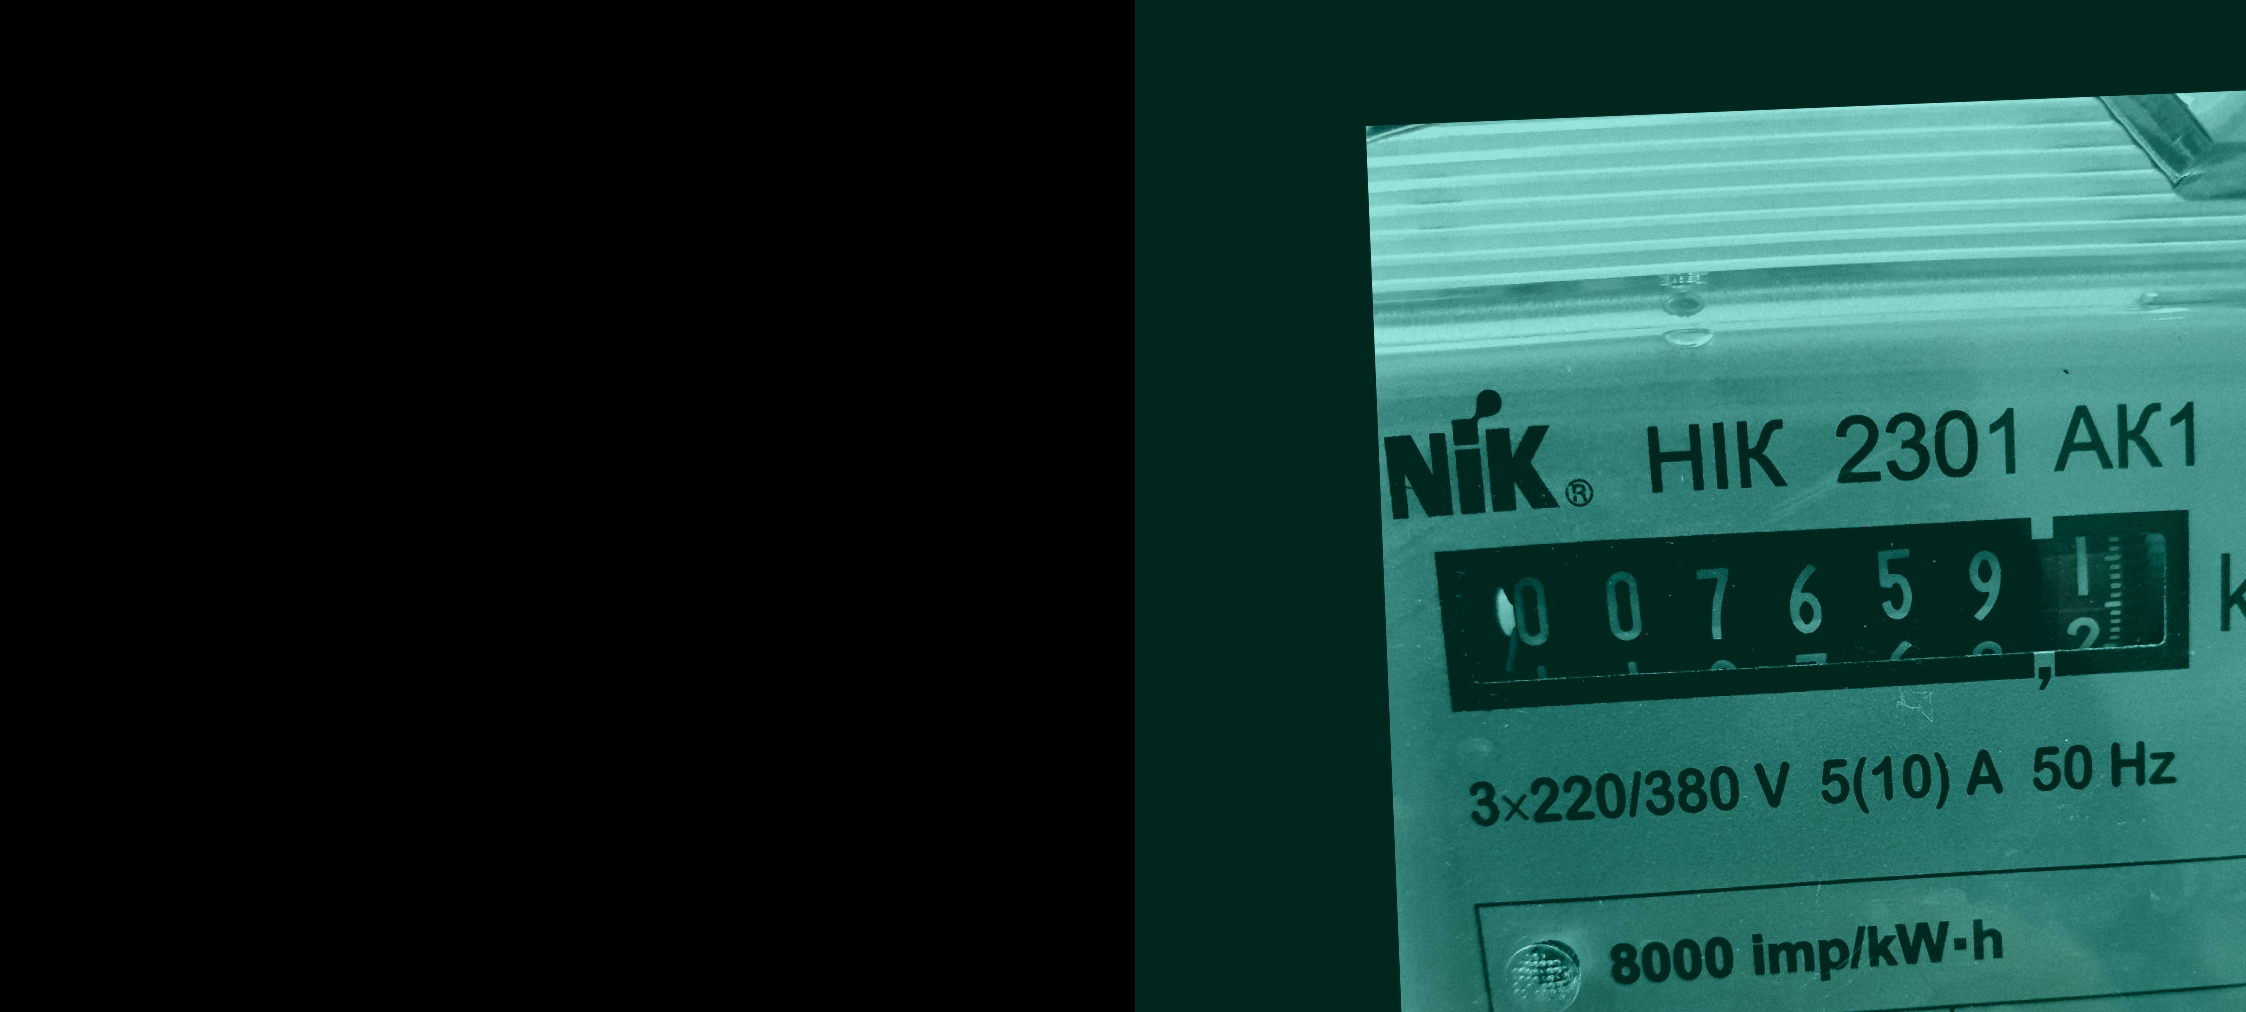0: (1593, 560, 1652, 648), (1505, 564, 1558, 656)
1: (2066, 527, 2103, 604)
5: (1871, 541, 1919, 624)
6: (1778, 553, 1832, 638)
7: (1692, 560, 1736, 646)
9: (1962, 540, 2010, 630)
screen: (1415, 487, 2217, 733)
